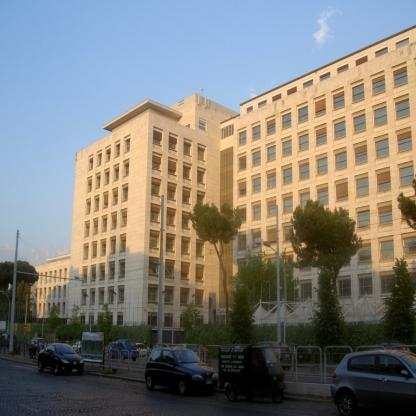Car: (330, 353, 411, 414), (143, 346, 218, 398), (39, 343, 85, 373), (257, 342, 297, 369), (107, 340, 141, 361), (26, 335, 49, 361), (290, 346, 306, 362)
